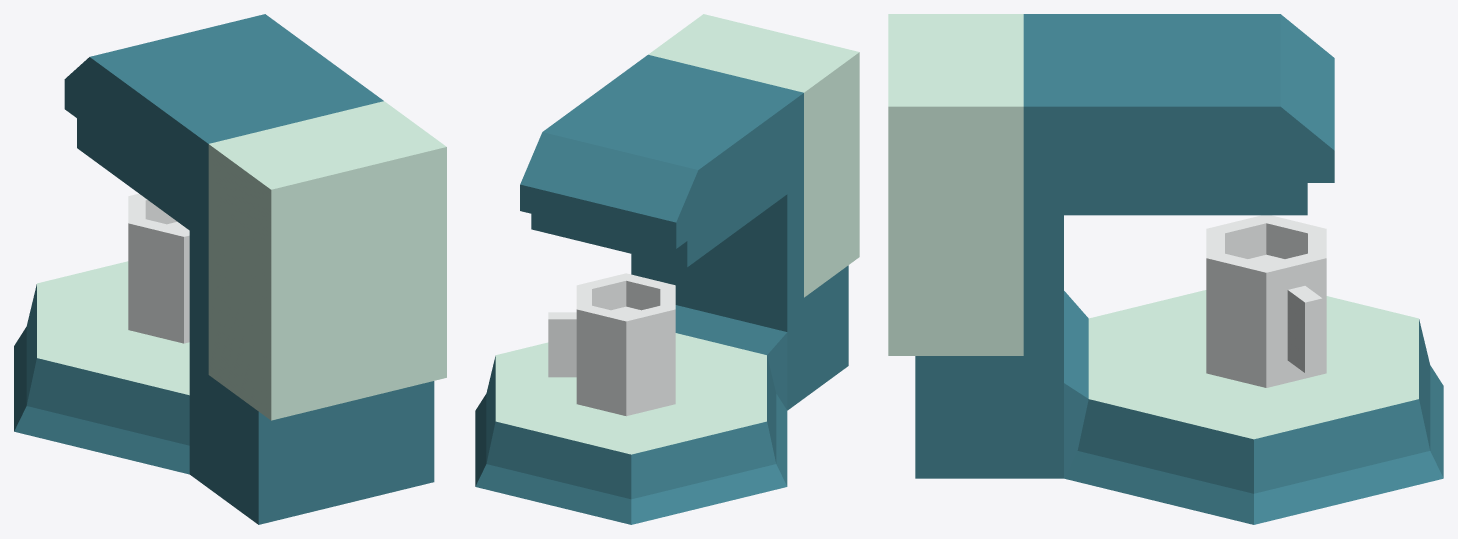
File: Furniture_CoffeeMaker.fbx
3 views of the same model, side by side, from view 1: azimuth 30°, elevation 25°; view 2: azimuth 150°, elevation 25°; view 3: azimuth 270°, elevation 25° (orthographic). The views are drawn at different scales.
Parts seen in each view (by area): view 1: kitchenCoffeeMachine; view 2: kitchenCoffeeMachine; view 3: kitchenCoffeeMachine.
Boxes of the visible parts, bbox=[...] form: kitchenCoffeeMachine: bbox=[14, 14, 446, 524]; kitchenCoffeeMachine: bbox=[475, 14, 859, 524]; kitchenCoffeeMachine: bbox=[888, 14, 1443, 524].
Size of the model in its own units: 50.07 by 46.88 by 63.44.
